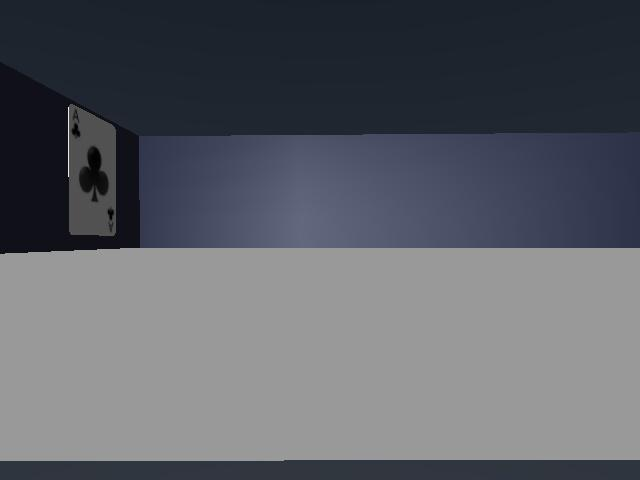spade: (68, 105, 116, 235)
